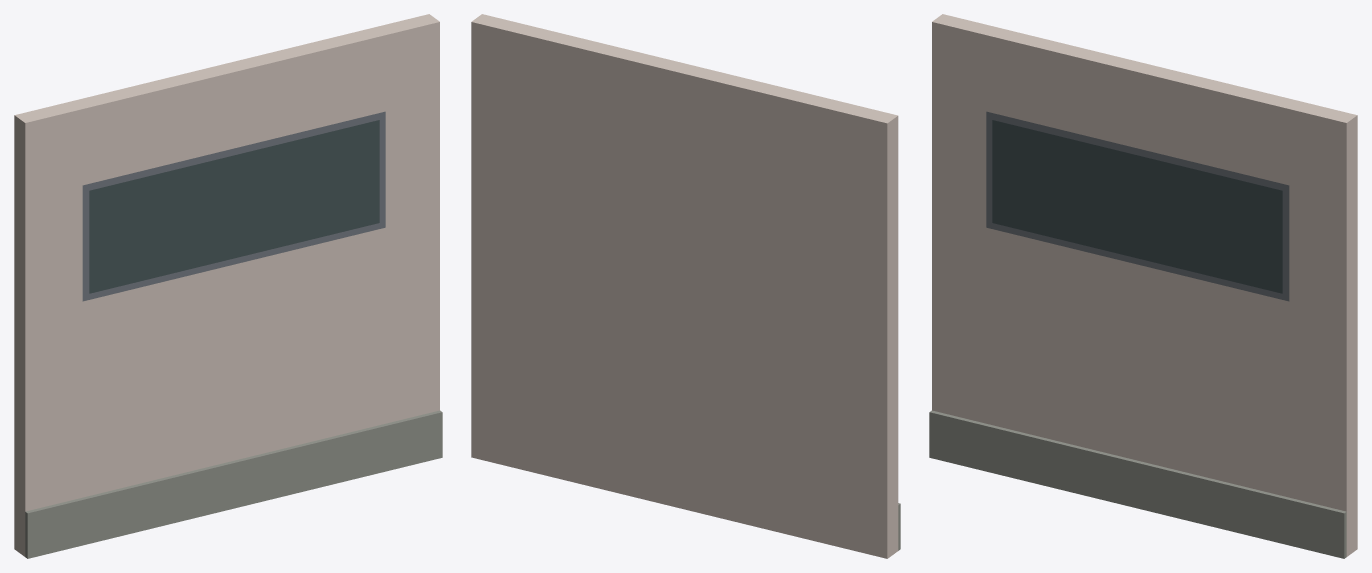
Rendered from mid-w1.fbx.
3 views of the same model, side by side, from view 1: azimuth 30°, elevation 25°; view 2: azimuth 150°, elevation 25°; view 3: azimuth 330°, elevation 25° (orthographic).
Visible parts, largest first — view 1: a2004/0/mid-w1; view 2: a2004/0/mid-w1; view 3: a2004/0/mid-w1.
Boxes of the visible parts, box(x1,y1,x2,y2) form: a2004/0/mid-w1: box(14, 14, 442, 558); a2004/0/mid-w1: box(471, 14, 900, 558); a2004/0/mid-w1: box(929, 14, 1357, 558).
Bounding box in the file's own units: 4 × 4 × 0.22.
